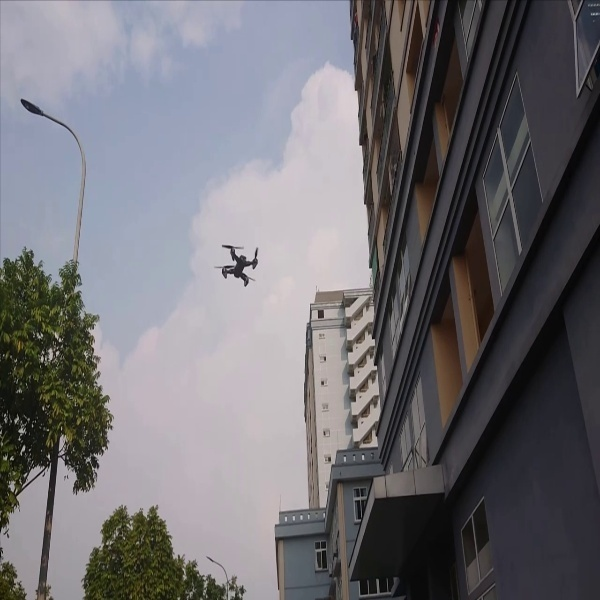drone: (212, 229, 267, 290)
